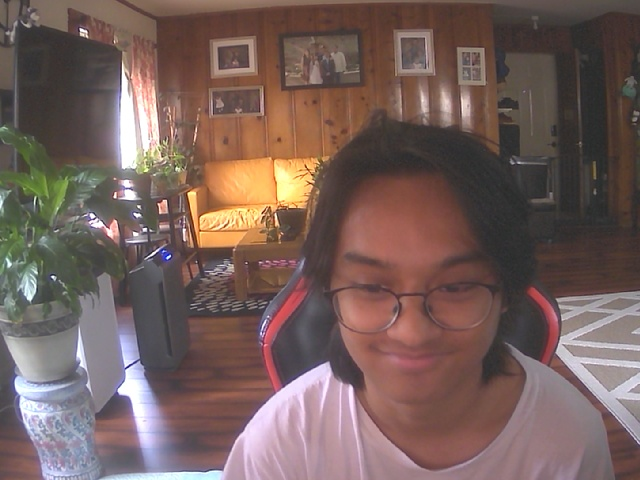happy: (325, 147, 516, 406)
